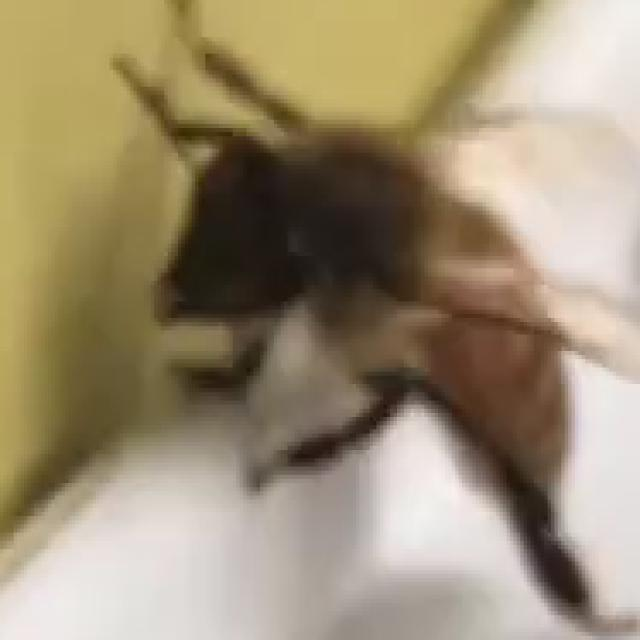honeybee: (107, 58, 602, 618)
